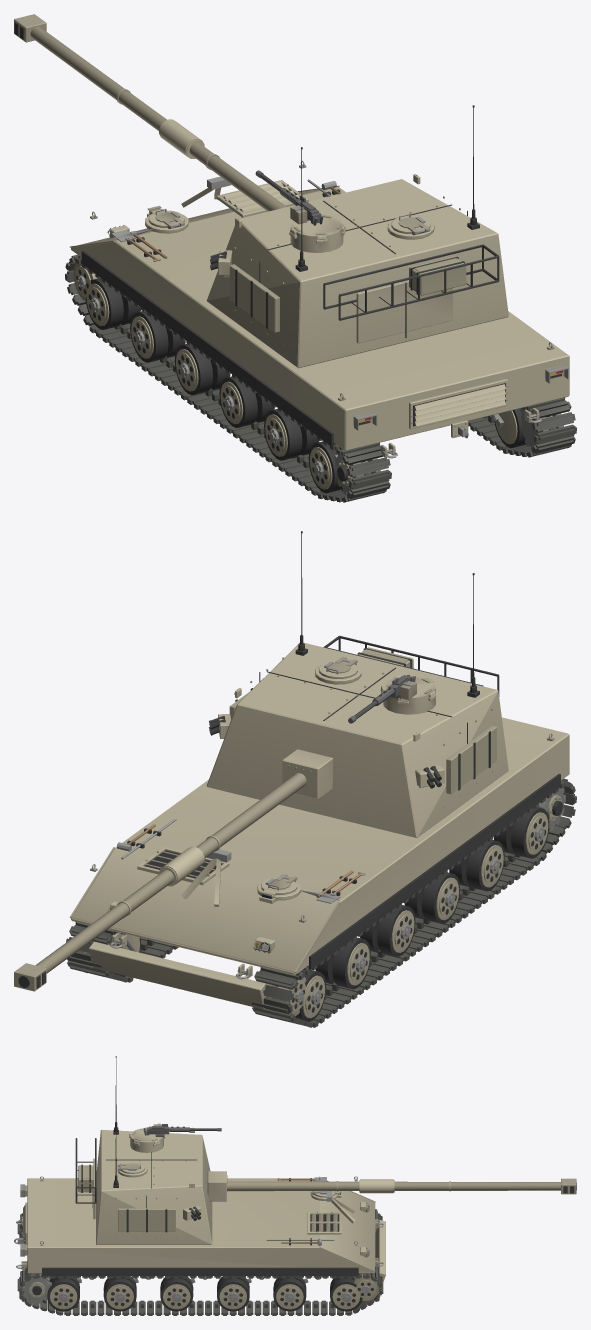
File: rus_spg_msta.glb
3 renders of one model, top to bottom at view 1: azimuth 30°, elevation 25°; view 2: azimuth 150°, elevation 25°; view 3: azimuth 270°, elevation 25°, orthographic. The views are drawn at different scales.
Parts seen in each view (by area): view 1: body, turret, barrel; view 2: body, turret, barrel; view 3: body, turret, barrel.
Boxes of the visible parts, bbox=[...] form: body: bbox=[65, 160, 576, 502]; turret: bbox=[206, 105, 508, 368]; barrel: bbox=[14, 14, 286, 211]; body: bbox=[66, 717, 576, 1027]; turret: bbox=[206, 531, 508, 837]; barrel: bbox=[14, 749, 332, 991]; body: bbox=[14, 1176, 385, 1315]; turret: bbox=[75, 1056, 221, 1244]; barrel: bbox=[207, 1171, 576, 1201].
Bounding box in the file's own units: 3.52 × 4.52 × 11.65.
